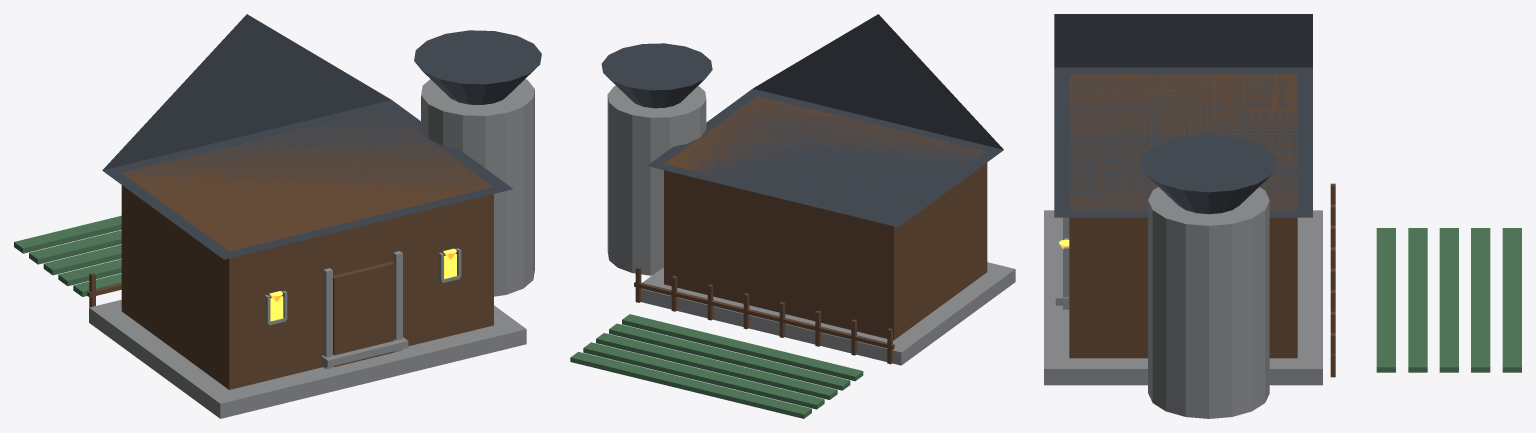
File: farm.glb
3 renders of one model, left to right at view 1: azimuth 30°, elevation 25°; view 2: azimuth 150°, elevation 25°; view 3: azimuth 270°, elevation 25°, orthographic. The views are drawn at different scales.
Parts seen in each view (by area): view 1: BarnWalls, BarnRoof, BarnFoundation, Silo, SiloRoof, Door, CropRow4, CropRow3, CropRow2, Threshold, DoorFrameL, CropRow1 (+1 smaller); view 2: BarnWalls, BarnRoof, Silo, BarnFoundation, SiloRoof, CropRow2, CropRow3, CropRow4, CropRow0, CropRow1, FenceRail; view 3: BarnRoof, BarnWalls, Silo, BarnFoundation, SiloRoof, CropRow0, CropRow1, CropRow2, CropRow3, CropRow4, Threshold.
Boxes of the visible parts, <box> form: BarnWalls: <box>121,109,493,389</box>; BarnRoof: <box>102,14,512,259</box>; BarnFoundation: <box>89,300,526,418</box>; Silo: <box>421,79,534,296</box>; SiloRoof: <box>414,30,541,104</box>; Door: <box>333,261,394,366</box>; CropRow4: <box>14,215,121,253</box>; CropRow3: <box>29,230,121,264</box>; CropRow2: <box>43,244,121,275</box>; Threshold: <box>321,337,408,367</box>; DoorFrameL: <box>323,268,332,369</box>; CropRow1: <box>58,259,121,286</box>; BarnWalls: <box>664,96,987,340</box>; BarnRoof: <box>647,14,1003,227</box>; Silo: <box>607,85,706,275</box>; BarnFoundation: <box>641,262,1015,365</box>; SiloRoof: <box>601,43,712,108</box>; CropRow2: <box>596,333,837,399</box>; CropRow3: <box>583,342,824,409</box>; CropRow4: <box>570,352,811,418</box>; CropRow0: <box>622,314,863,381</box>; CropRow1: <box>609,323,850,390</box>; FenceRail: <box>634,282,894,349</box>; BarnRoof: <box>1054,14,1312,217</box>; BarnWalls: <box>1069,74,1297,358</box>; Silo: <box>1148,187,1269,418</box>; BarnFoundation: <box>1044,210,1322,385</box>; SiloRoof: <box>1140,134,1277,214</box>; CropRow0: <box>1376,228,1395,372</box>; CropRow1: <box>1408,228,1427,372</box>; CropRow2: <box>1439,228,1458,372</box>; CropRow3: <box>1471,228,1490,372</box>; CropRow4: <box>1502,228,1521,372</box>; Threshold: <box>1055,256,1069,305</box>.
Bounding box in the file's own units: 9.45 × 6.35 × 9.42.
